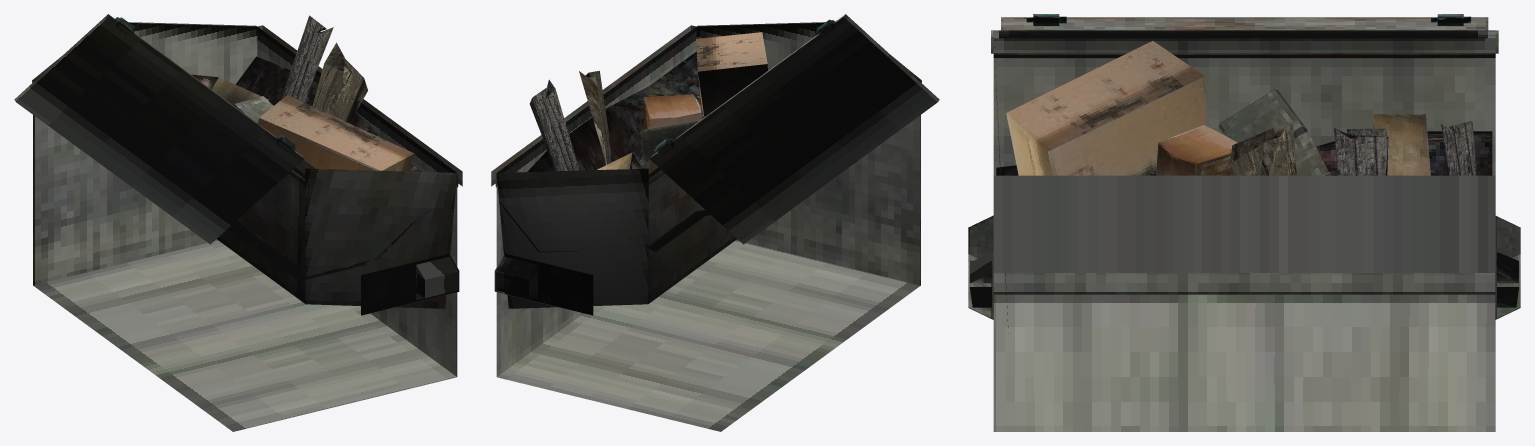
File: dumpster.glb
The picture shows the model from 3 angles, left to right: view 1: azimuth 30°, elevation 25°; view 2: azimuth 150°, elevation 25°; view 3: azimuth 270°, elevation 25°; orthographic projection. The views are drawn at different scales.
Visible parts, largest first — view 1: dumpster; view 2: dumpster; view 3: dumpster.
Boxes of the visible parts, box(x1,y1,x2,y2) form: dumpster: box(14, 14, 462, 431); dumpster: box(491, 14, 939, 431); dumpster: box(968, 14, 1520, 431).
Size of the model in its own units: 1.43 by 1.37 by 2.11.
5 materials, 5 textured.
